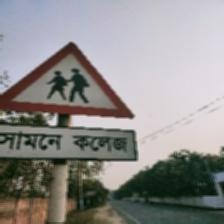College-in-front: (0, 42, 177, 181)
